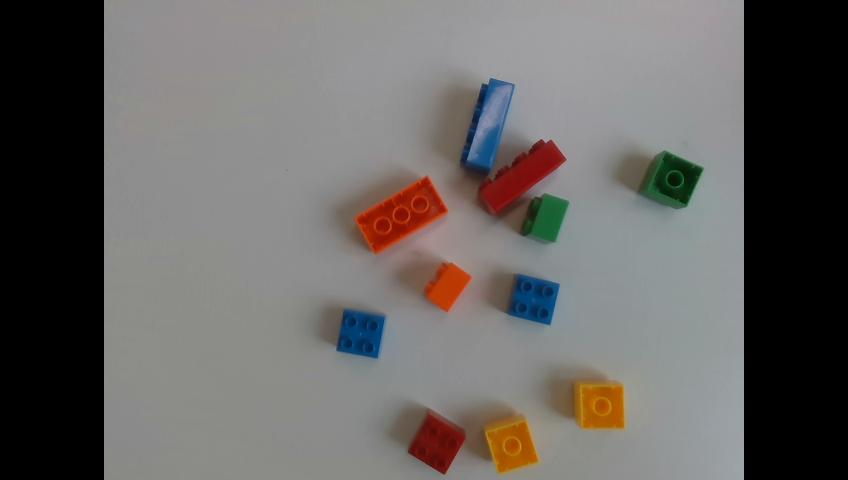2x2_blue: (510, 273, 559, 323), (336, 309, 384, 356)
2x2_green: (641, 150, 704, 207), (524, 194, 570, 240)
2x2_orange: (424, 261, 471, 311)
2x2_red: (408, 410, 464, 473)
2x2_yellow: (486, 414, 539, 473), (576, 384, 626, 428)
4x2_blue: (460, 77, 515, 170)
4x2_orange: (355, 174, 447, 258)
4x2_red: (479, 137, 566, 212)
